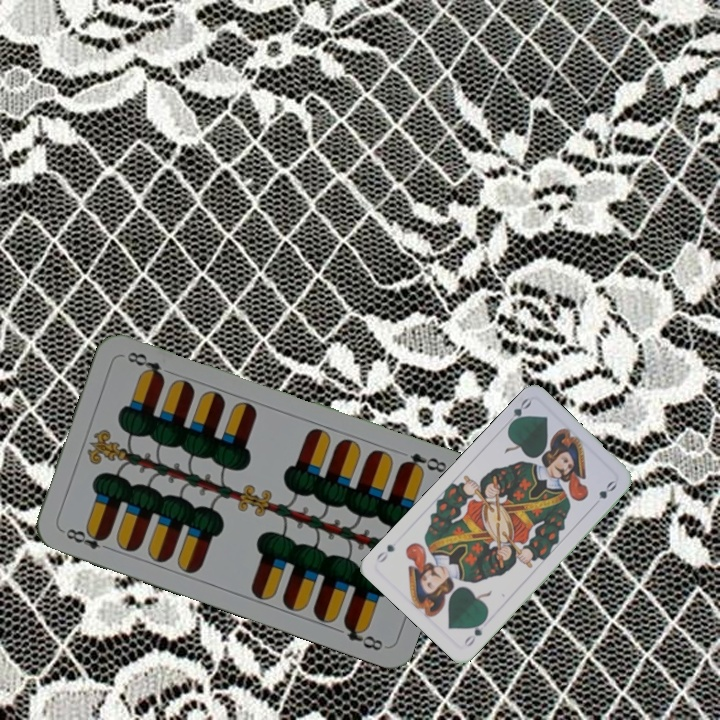E8: (58, 524, 115, 553), (396, 449, 450, 476)
GO: (504, 394, 534, 431), (460, 615, 489, 650)
